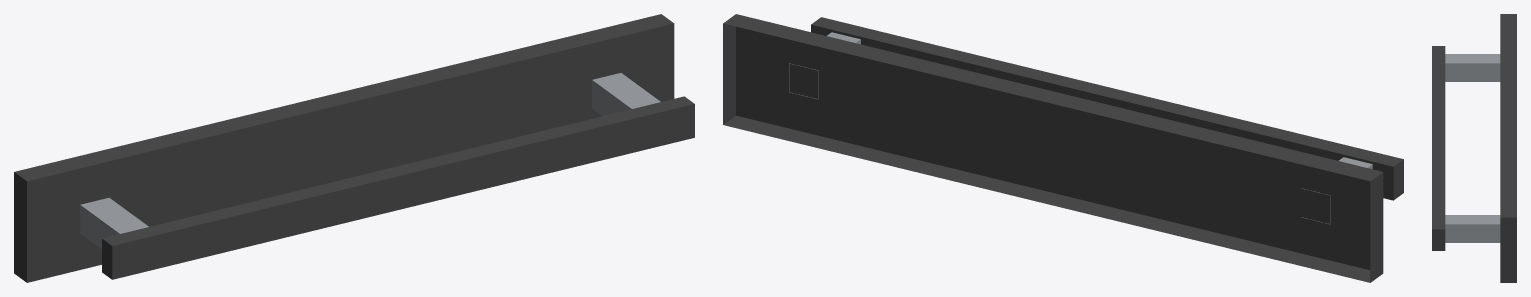
Rendered from Towel_Rack.fbx.
3 views of the same model, side by side, from view 1: azimuth 30°, elevation 25°; view 2: azimuth 150°, elevation 25°; view 3: azimuth 270°, elevation 25° (orthographic). The views are drawn at different scales.
Visible parts, largest first — view 1: polySurface1555; view 2: polySurface1555; view 3: polySurface1555.
Part boxes in pixels (x1,y1,x2,y2): polySurface1555: [14, 14, 694, 282]; polySurface1555: [723, 14, 1403, 282]; polySurface1555: [1432, 14, 1516, 282].
Bounding box in the file's own units: 1.52 × 0.2276 × 0.267.
Materials: 1 (1 with a texture image).
